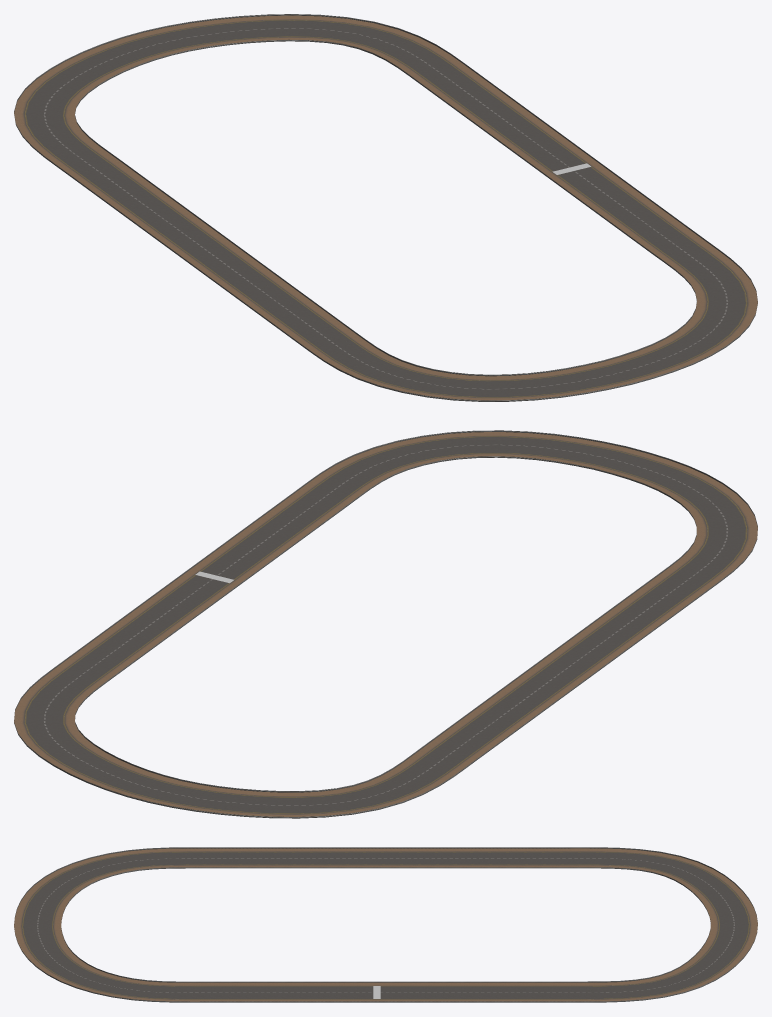
File: Demo_Track.fbx
3 views of the same model, one above another, from view 1: azimuth 30°, elevation 25°; view 2: azimuth 150°, elevation 25°; view 3: azimuth 270°, elevation 25° (orthographic). The views are drawn at different scales.
Parts seen in each view (by area): view 1: Track_Asphalt, Track_Runoff, Track_Barriers; view 2: Track_Asphalt, Track_Runoff, Track_Barriers; view 3: Track_Asphalt, Track_Runoff, Track_Barriers.
Boxes of the visible parts, bbox=[...] form: Track_Asphalt: bbox=[24, 20, 747, 397]; Track_Runoff: bbox=[14, 15, 757, 400]; Track_Barriers: bbox=[14, 14, 757, 401]; Track_Asphalt: bbox=[24, 436, 747, 813]; Track_Runoff: bbox=[14, 432, 757, 816]; Track_Barriers: bbox=[14, 430, 757, 818]; Track_Asphalt: bbox=[22, 852, 749, 999]; Track_Runoff: bbox=[14, 848, 757, 1001]; Track_Barriers: bbox=[14, 847, 757, 1002].
Bounding box in the file's own units: 178 × 0.6575 × 362.
